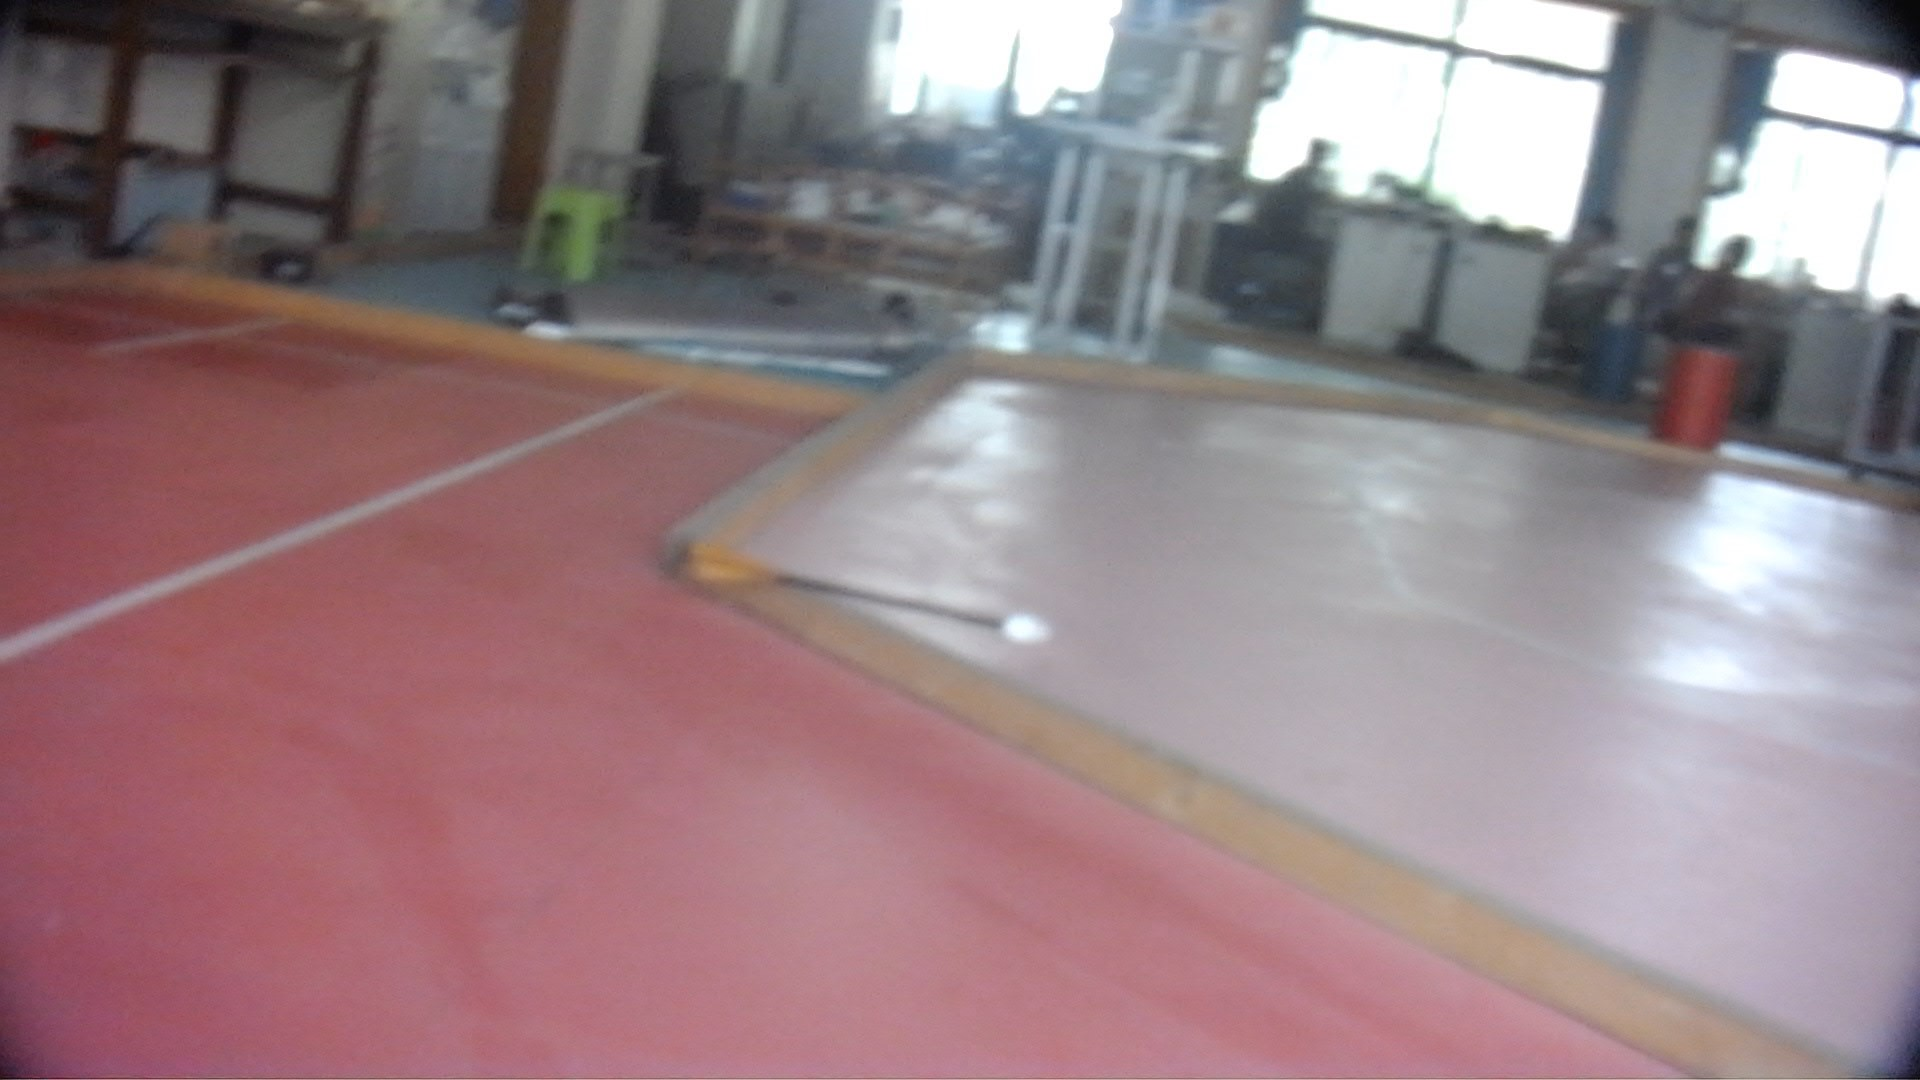arrow: (682, 537, 1058, 649)
arrowFront: (988, 612, 1060, 651)
